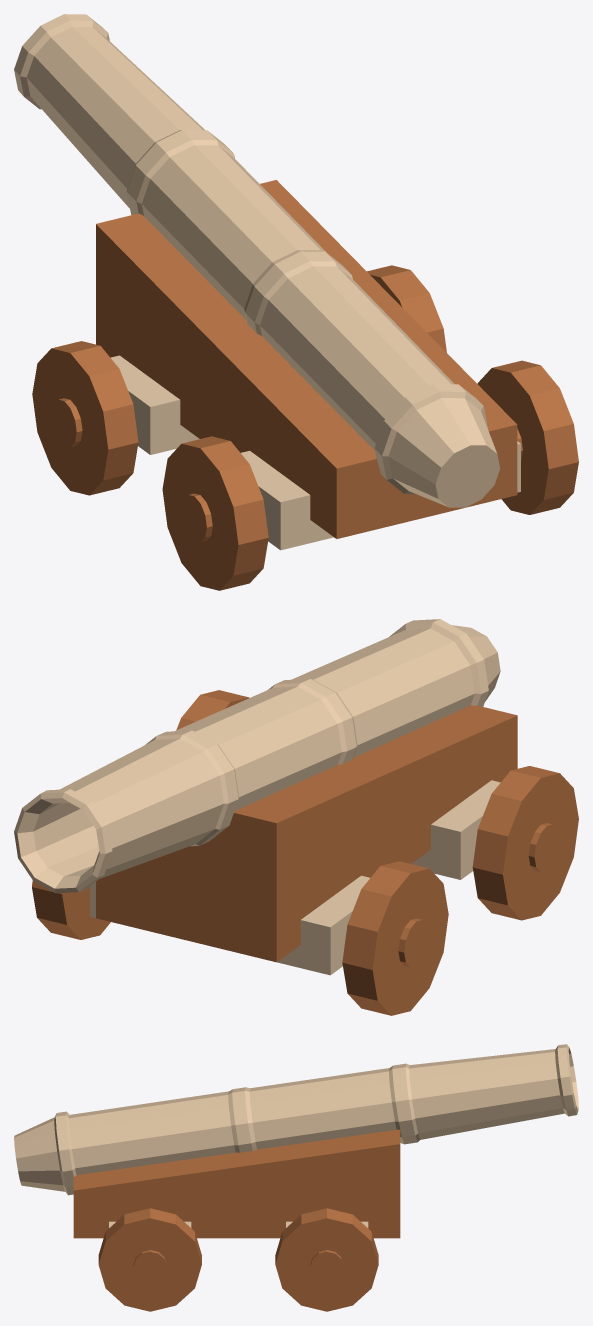
File: cañon2.fbx
3 views of the same model, one above another, from view 1: azimuth 30°, elevation 25°; view 2: azimuth 150°, elevation 25°; view 3: azimuth 270°, elevation 25° (orthographic). The views are drawn at different scales.
Parts seen in each view (by area): view 1: Cube; view 2: Cube; view 3: Cube.
Boxes of the visible parts, box(x1,y1,x2,y2) form: Cube: box(14, 14, 578, 590); Cube: box(14, 619, 578, 1015); Cube: box(14, 1044, 578, 1311).
Size of the model in its own units: 265 by 221 by 544.
